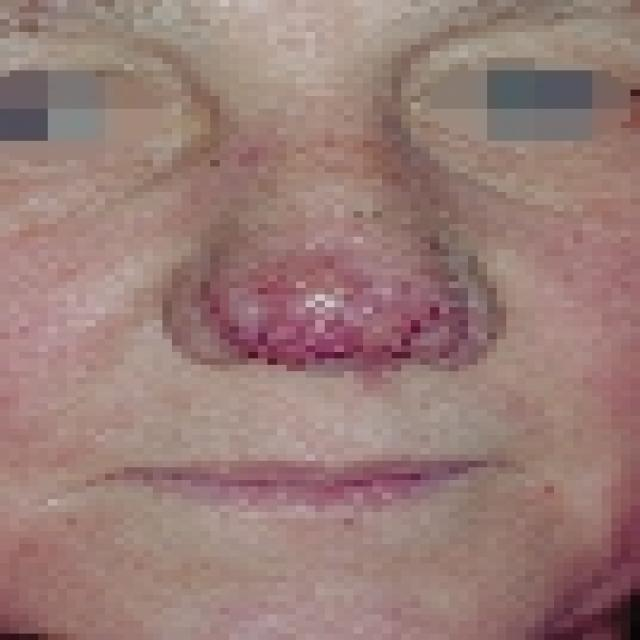lupus: (140, 228, 483, 377)
